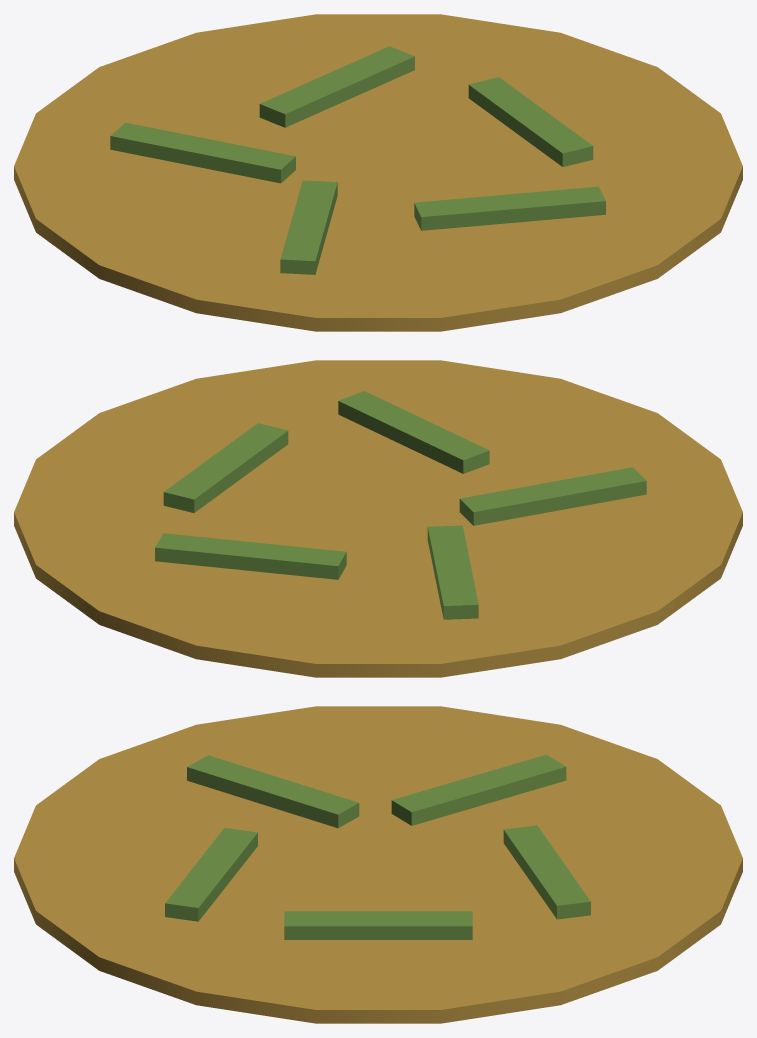
The model's file is ground-decal.glb.
The picture shows the model from 3 angles, top to bottom: view 1: azimuth 30°, elevation 25°; view 2: azimuth 150°, elevation 25°; view 3: azimuth 270°, elevation 25°; orthographic projection.
Parts seen in each view (by area): view 1: decal_plate, rune_1, rune_3, rune_4, rune_0, rune_2; view 2: decal_plate, rune_4, rune_2, rune_1, rune_0, rune_3; view 3: decal_plate, rune_0, rune_3, rune_2, rune_1, rune_4.
Boxes of the visible parts, x1,y1,x2,y2 form: decal_plate: (14,14,742,331); rune_1: (414,186,605,230); rune_3: (110,122,295,183); rune_4: (259,46,414,127); rune_0: (468,77,593,166); rune_2: (280,180,337,274); decal_plate: (14,360,742,677); rune_4: (155,533,346,579); rune_2: (459,467,646,525); rune_1: (338,391,489,473); rune_0: (163,423,288,512); rune_3: (427,525,478,619); decal_plate: (14,706,742,1023); rune_0: (284,911,472,939); rune_3: (391,754,566,825); rune_2: (187,755,359,828); rune_1: (165,828,257,921); rune_4: (503,825,590,919).
Size of what is drawn, in the model's own units: 2.86 by 0.12 by 2.9.
